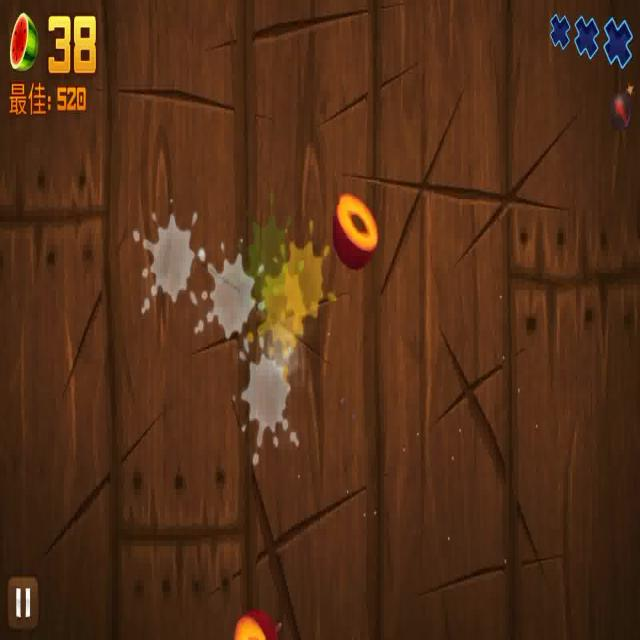fruit: (330, 187, 382, 268), (230, 606, 271, 640)
